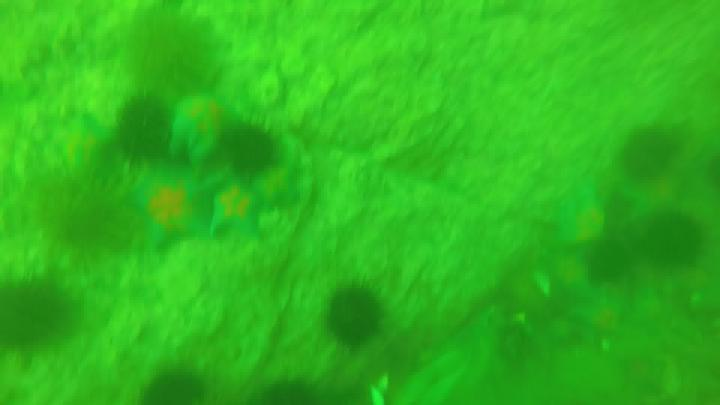echinus: (124, 9, 218, 90), (4, 273, 75, 347), (115, 96, 171, 167), (641, 206, 705, 263), (324, 285, 379, 345), (220, 120, 276, 177), (624, 126, 682, 181), (138, 371, 208, 405), (584, 239, 634, 282)
starfish: (126, 161, 220, 244), (208, 180, 273, 242)
